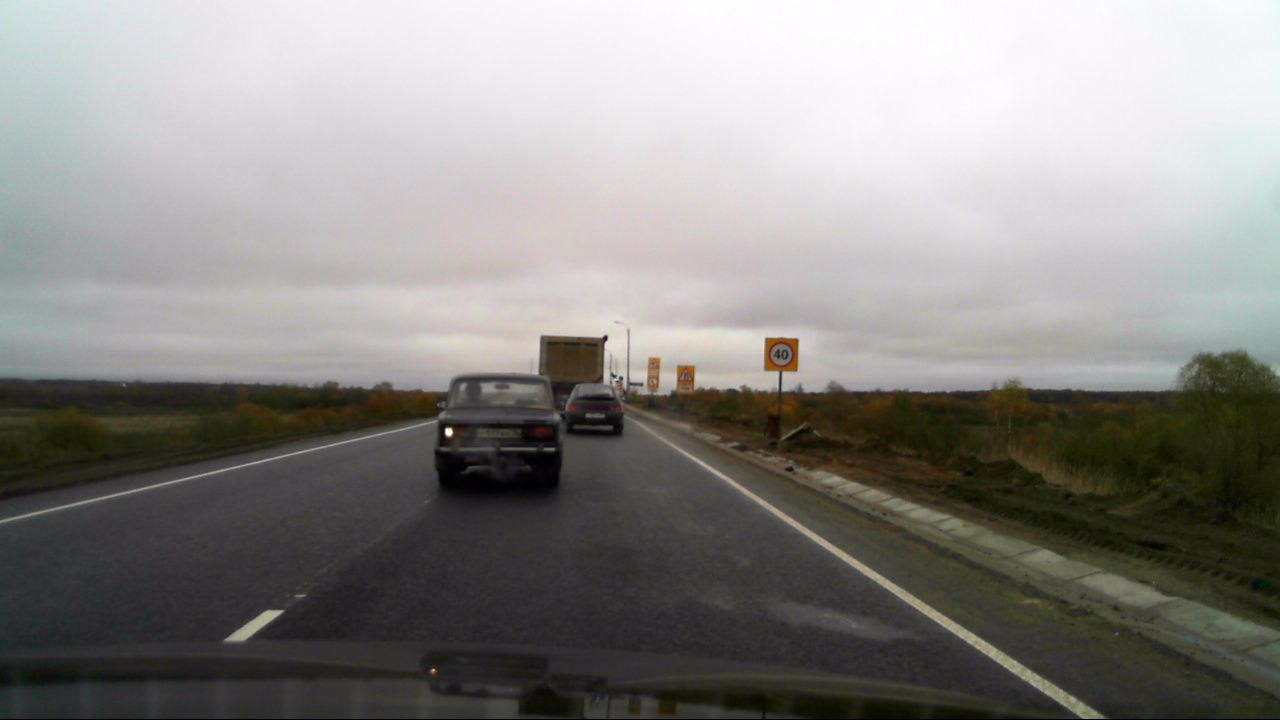speed_warning_40: (765, 337, 796, 370)
